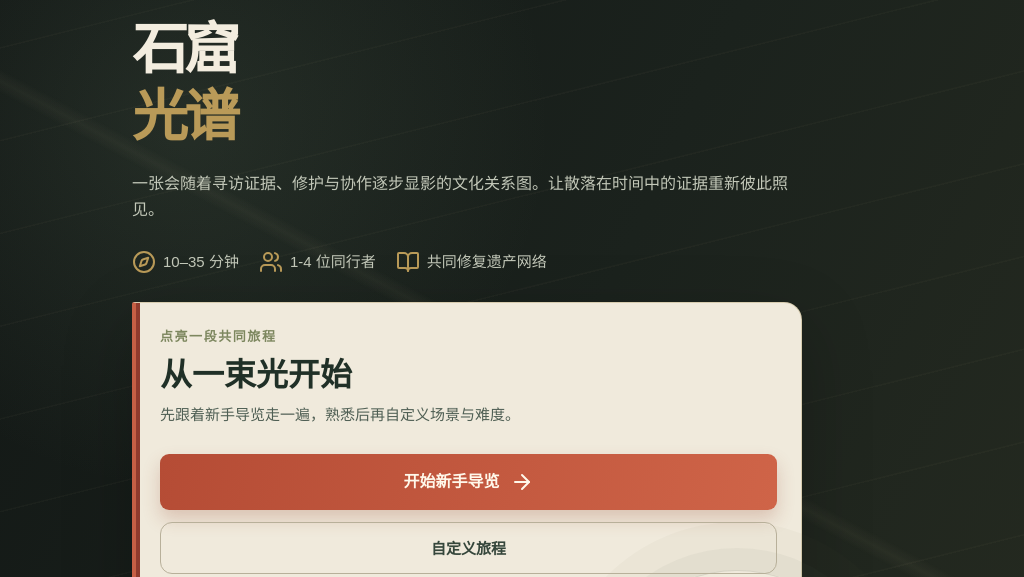
Test: LandingPage › keeps advanced seed controls progressively disclosed
Click the button "自定义旅程": (468,548) x1=160 y1=522 x2=777 y2=574
(page scrolled)
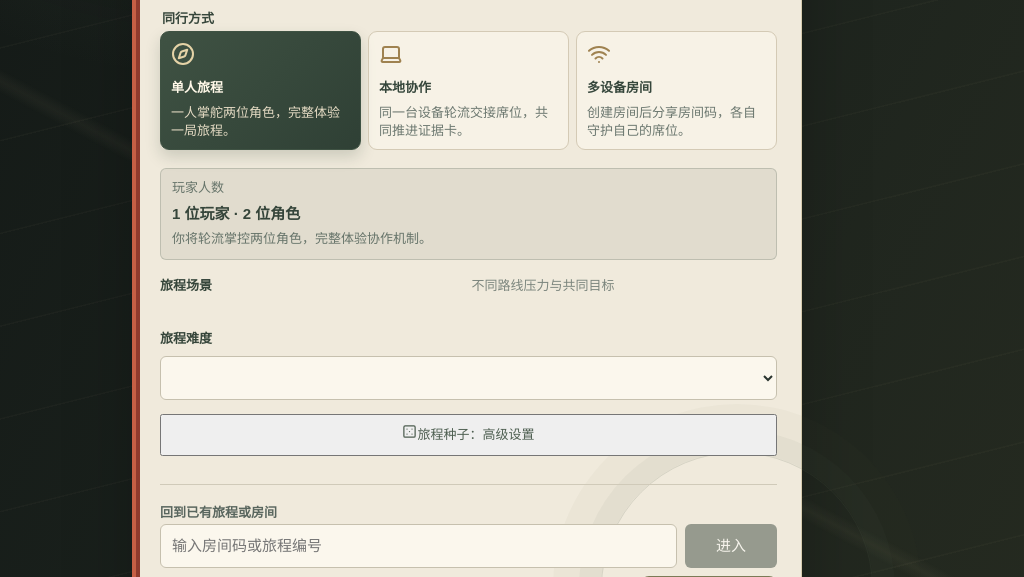
Click the button "旅程种子：高级设置": (468,435) x1=160 y1=414 x2=777 y2=456
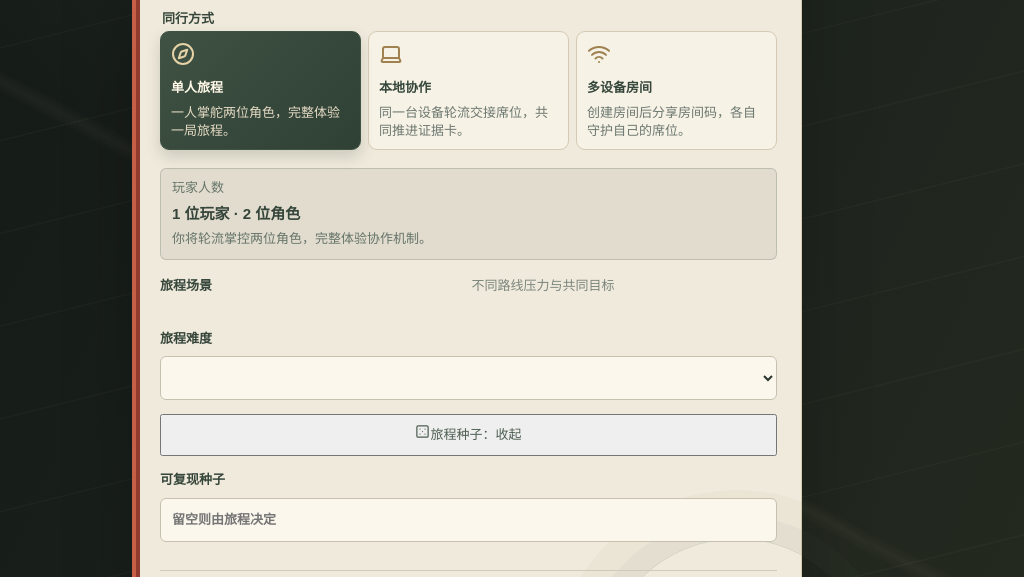
Expected: the button "旅程种子：收起" is shown, x1=160 y1=414 x2=777 y2=456
